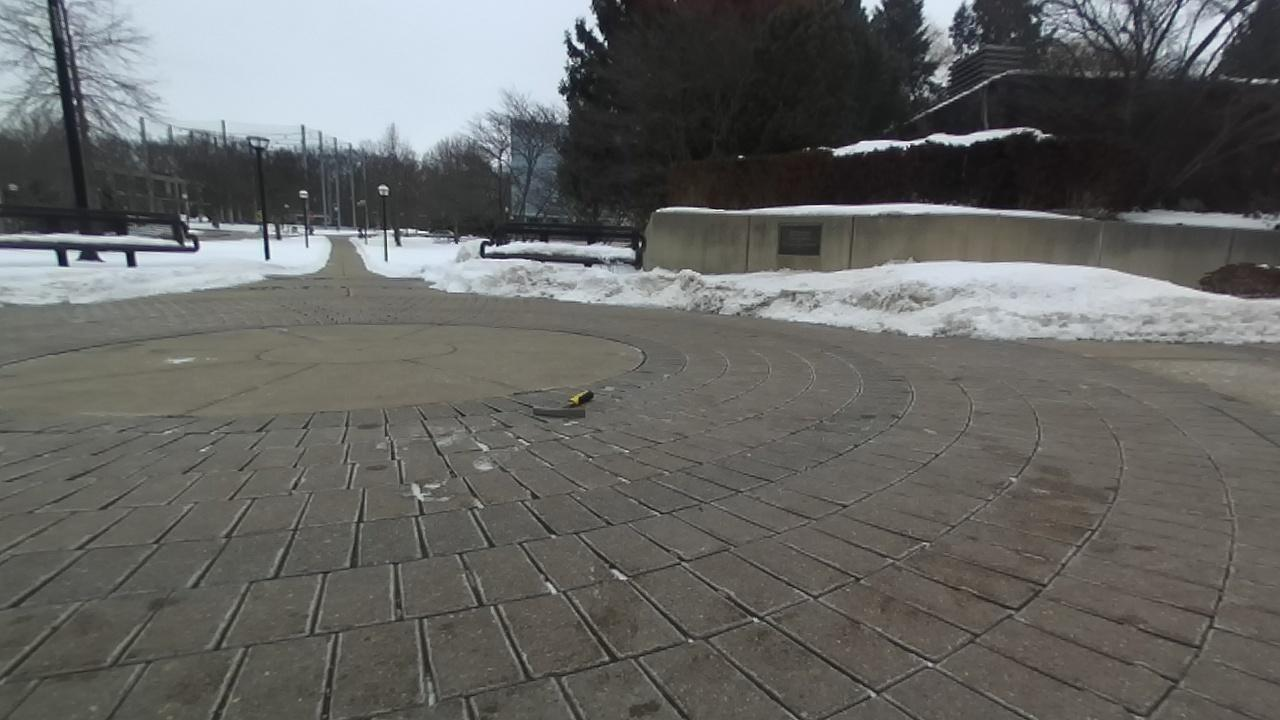pick: (533, 390, 593, 416)
